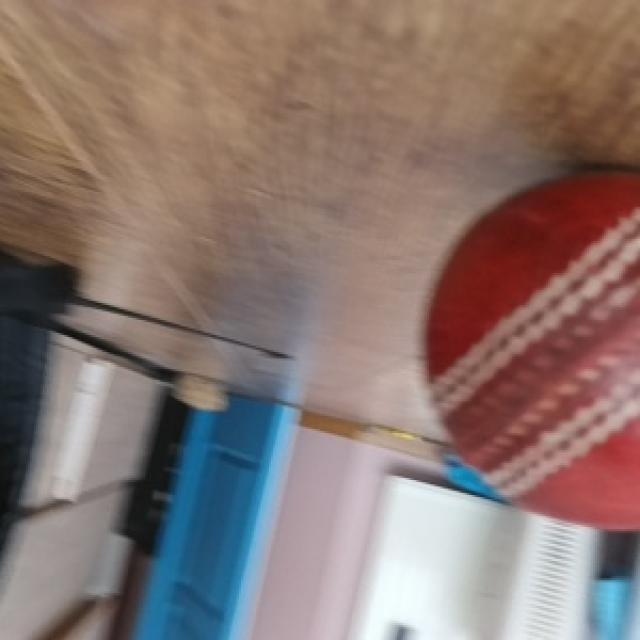ball: (422, 169, 640, 535)
